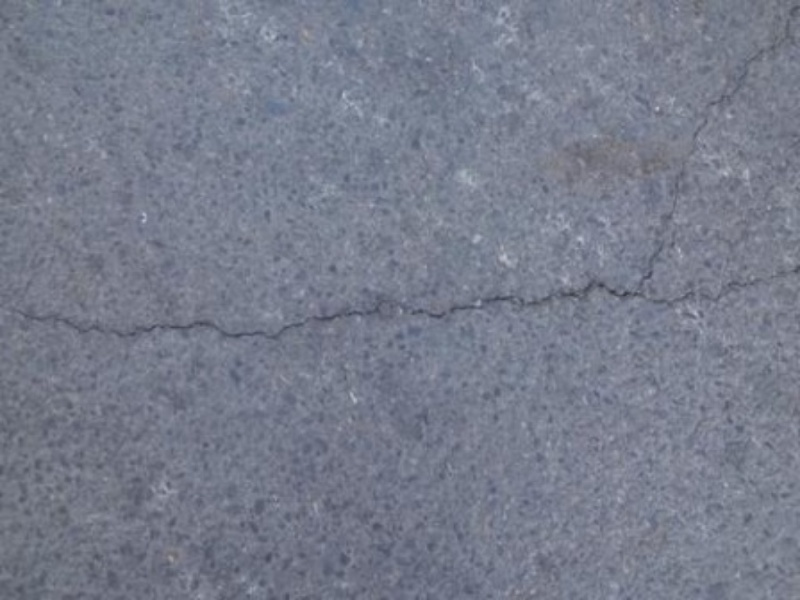crack: (13, 236, 794, 409), (605, 24, 794, 306)
